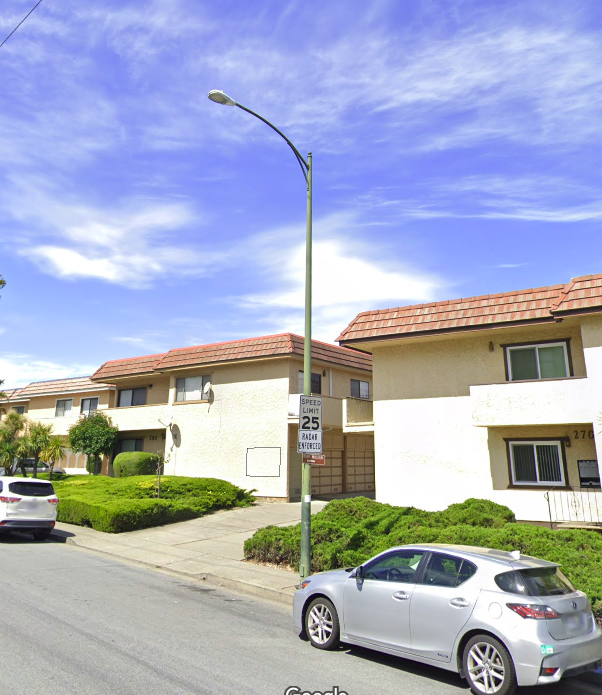pole: (198, 85, 326, 318)
